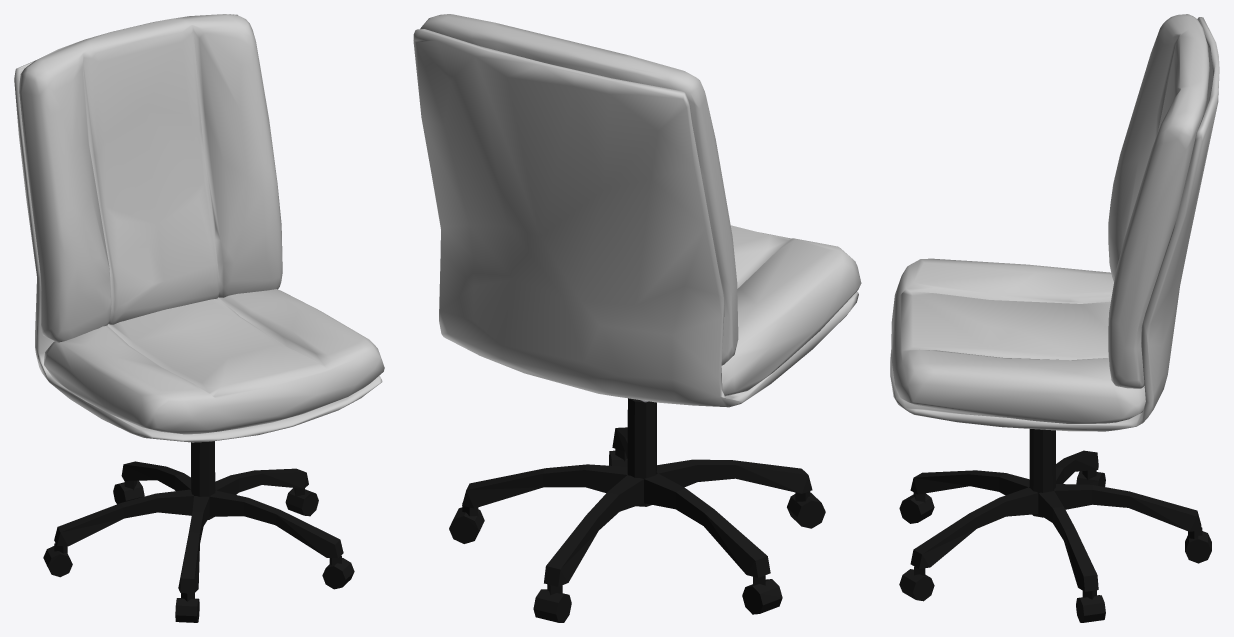
File: Chair 2.FBX
3 renders of one model, left to right at view 1: azimuth 30°, elevation 25°; view 2: azimuth 150°, elevation 25°; view 3: azimuth 270°, elevation 25°, orthographic. The views are drawn at different scales.
Visible parts, largest first — view 1: Chair 2; view 2: Chair 2; view 3: Chair 2.
Part boxes in pixels (left/top/right/bottom): Chair 2: left=14, top=14, right=384, bottom=622; Chair 2: left=413, top=14, right=861, bottom=622; Chair 2: left=890, top=14, right=1219, bottom=622.
Bounding box in the file's own units: 80.3 × 135 × 80.47.
